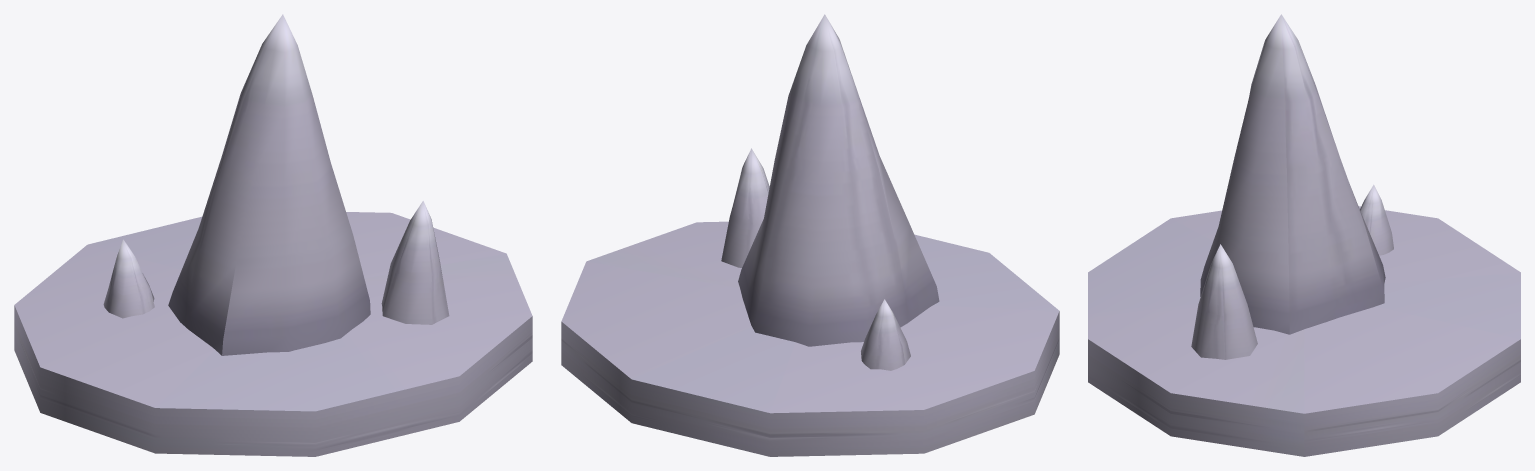
Rendered from stalagmite.glb.
3 renders of one model, left to right at view 1: azimuth 30°, elevation 25°; view 2: azimuth 150°, elevation 25°; view 3: azimuth 270°, elevation 25°, orthographic. The views are drawn at different scales.
Parts seen in each view (by area): view 1: stalagmite; view 2: stalagmite; view 3: stalagmite.
Part boxes in pixels (x1,y1,x2,y2): stalagmite: (14,14,532,456); stalagmite: (561,14,1059,456); stalagmite: (1088,14,1520,456).
Bounding box in the file's own units: 1.76 × 1.33 × 1.49.
1 material, 1 textured.
